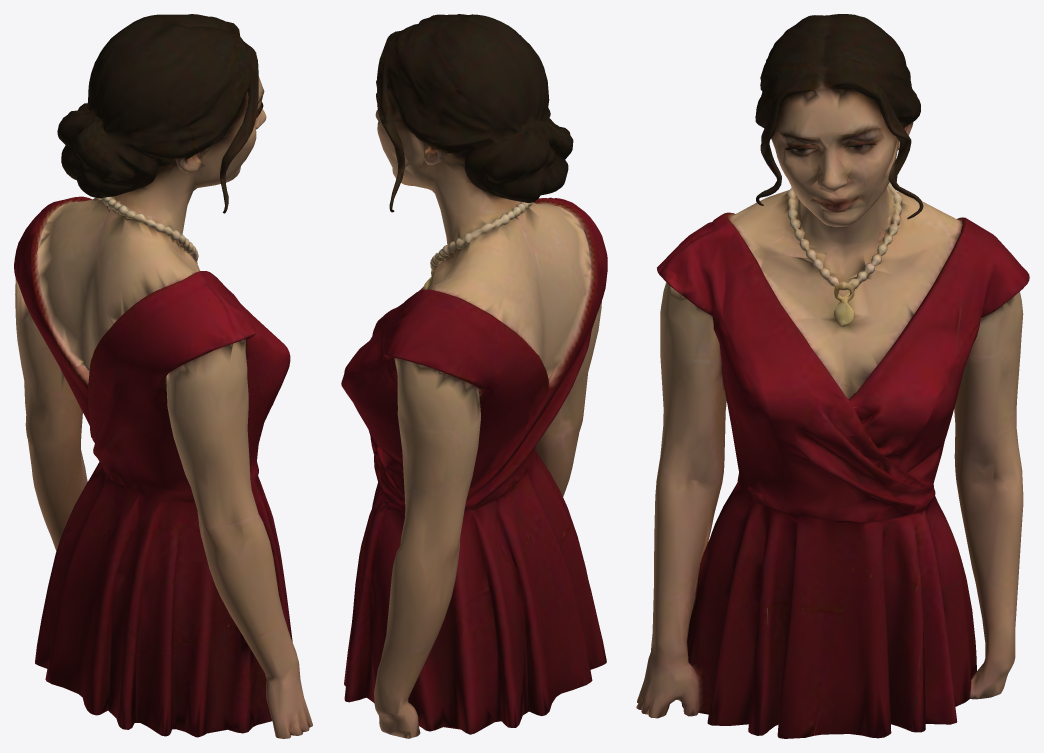
The picture shows the model from 3 angles, left to right: view 1: azimuth 30°, elevation 25°; view 2: azimuth 150°, elevation 25°; view 3: azimuth 270°, elevation 25°; orthographic projection. The views are drawn at different scales.
Parts seen in each view (by area): view 1: ld1_pearl_necklace_3d_model__1__LOD0; view 2: ld1_pearl_necklace_3d_model__1__LOD0; view 3: ld1_pearl_necklace_3d_model__1__LOD0.
Boxes of the visible parts, x1,y1,x2,y2 form: ld1_pearl_necklace_3d_model__1__LOD0: (14, 14, 312, 738); ld1_pearl_necklace_3d_model__1__LOD0: (341, 14, 607, 738); ld1_pearl_necklace_3d_model__1__LOD0: (636, 14, 1029, 738).
Size of what is drawn, in the model's own units: 0.3152 by 1 by 0.5308.
1 material, 1 textured.
